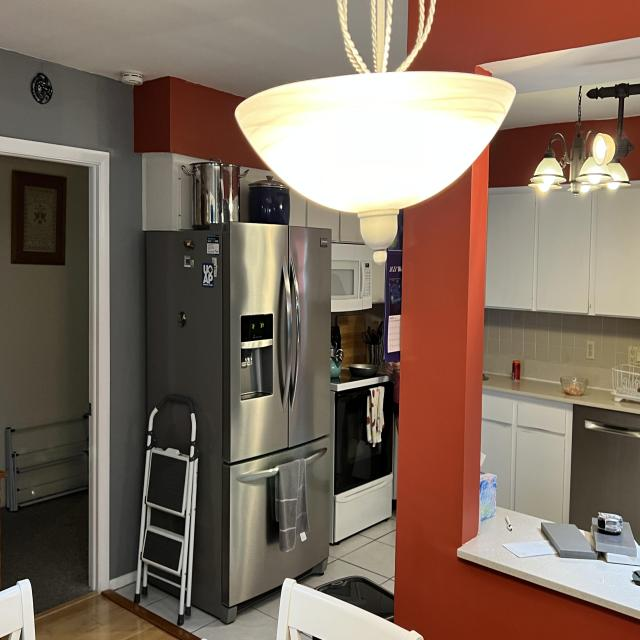Appliance_Dishwasher: (568, 405, 640, 546)
Appliance_Fridge: (144, 223, 332, 626)
Appliance_Microwave: (331, 244, 372, 312)
Appliance_Oven: (334, 365, 393, 544)
Cabinet_Flat: (485, 182, 640, 319), (481, 395, 573, 524), (289, 190, 364, 244)
Countertop_Granite: (457, 507, 640, 621), (484, 378, 640, 414)
